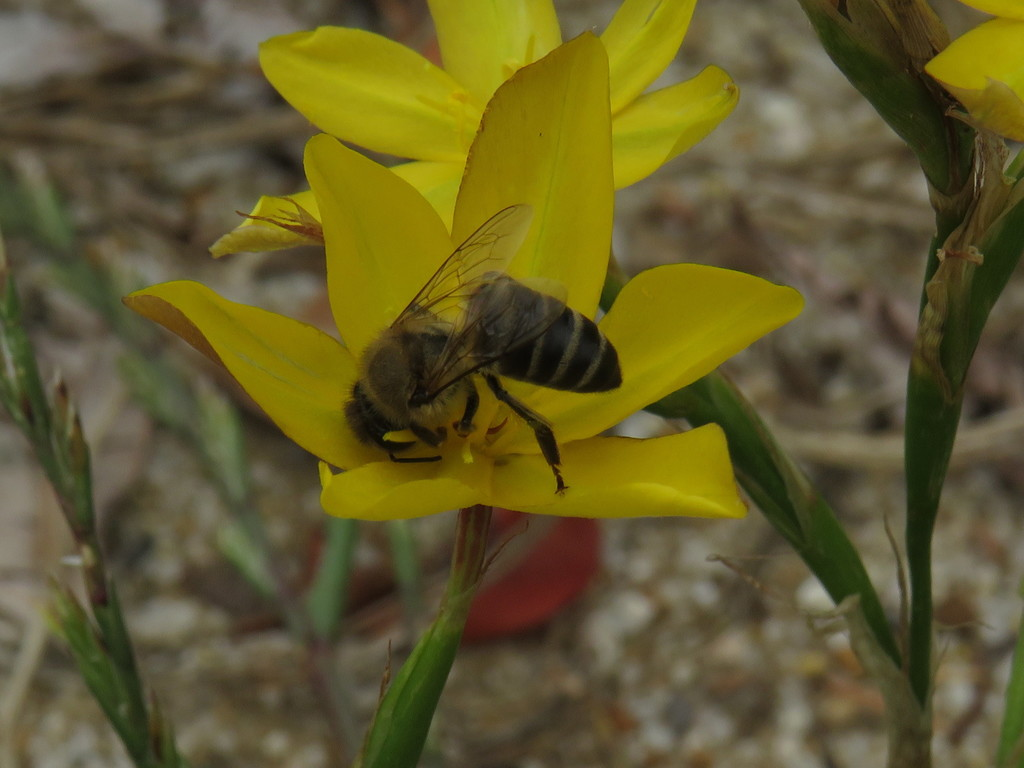not_bumblebee: (345, 200, 625, 499)
